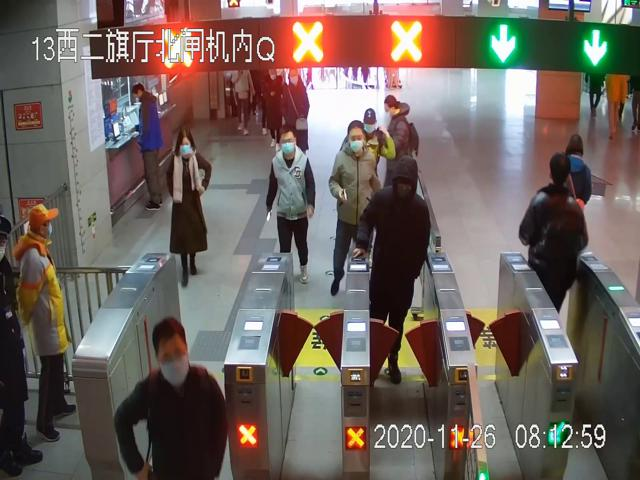person: (353, 156, 426, 384), (14, 203, 77, 443), (328, 120, 383, 291), (268, 124, 315, 283), (166, 128, 213, 283), (127, 83, 164, 209), (382, 94, 421, 186)
